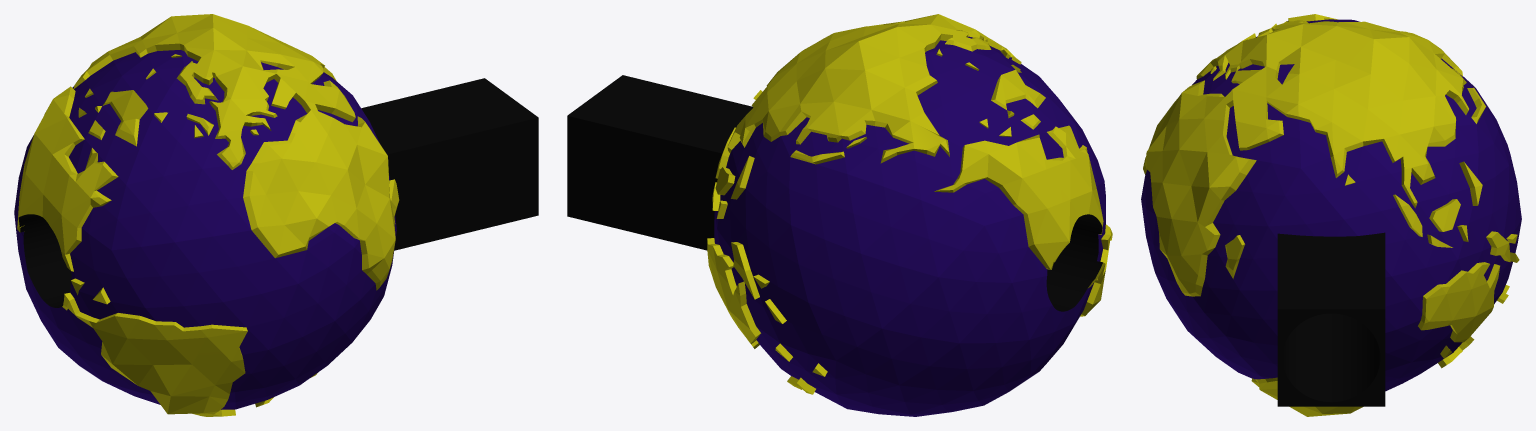
The model's file is earthWork3.glb.
The picture shows the model from 3 angles, left to right: view 1: azimuth 30°, elevation 25°; view 2: azimuth 150°, elevation 25°; view 3: azimuth 270°, elevation 25°; orthographic projection. The views are drawn at different scales.
Visible parts, largest first — view 1: earth4, Cube; view 2: earth4, Cube; view 3: earth4, Cube.
Part boxes in pixels (left/top/right/bottom): earth4: left=14, top=14, right=399, bottom=416; Cube: left=361, top=78, right=538, bottom=250; earth4: left=707, top=14, right=1112, bottom=416; Cube: left=567, top=75, right=752, bottom=250; earth4: left=1141, top=14, right=1521, bottom=416; Cube: left=1277, top=232, right=1385, bottom=406.
Bounding box in the file's own units: 123 × 90.26 × 85.11.
